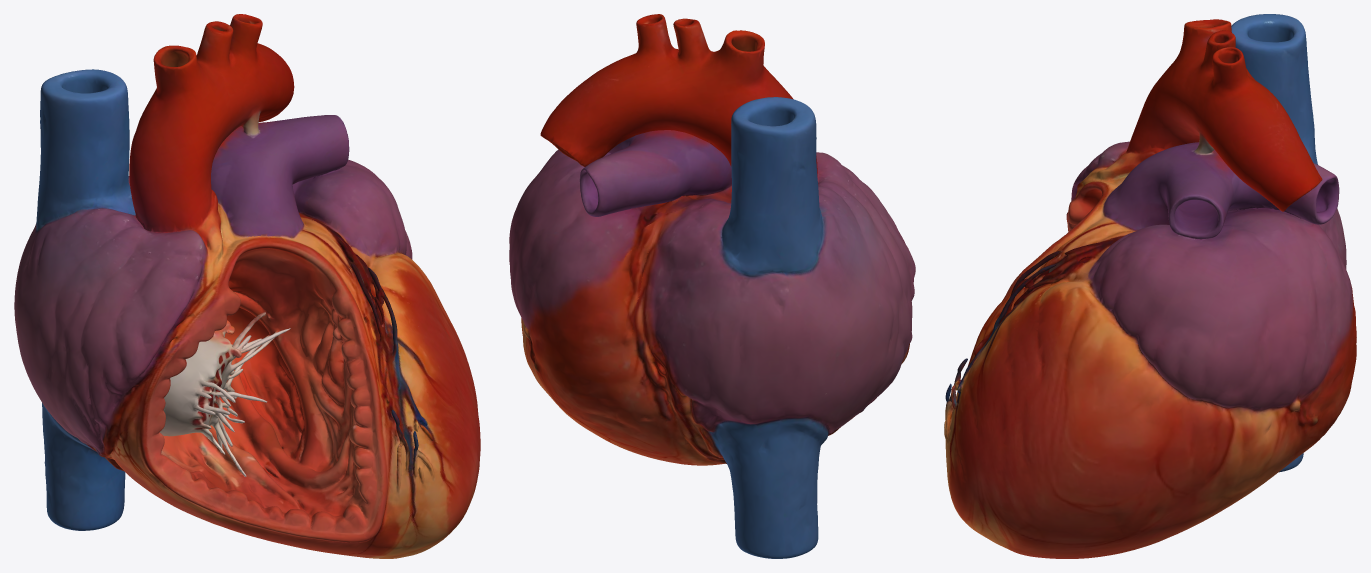
The model's file is heart-v2.glb.
The picture shows the model from 3 angles, left to right: view 1: azimuth 30°, elevation 25°; view 2: azimuth 150°, elevation 25°; view 3: azimuth 270°, elevation 25°; orthographic projection.
Visible parts, largest first — view 1: tripo_node_8304d019-624b-48c9-bcb0-389e05ef262e; view 2: tripo_node_8304d019-624b-48c9-bcb0-389e05ef262e; view 3: tripo_node_8304d019-624b-48c9-bcb0-389e05ef262e.
Part boxes in pixels (x1,y1,x2,y2): tripo_node_8304d019-624b-48c9-bcb0-389e05ef262e: [14, 14, 480, 558]; tripo_node_8304d019-624b-48c9-bcb0-389e05ef262e: [509, 14, 915, 558]; tripo_node_8304d019-624b-48c9-bcb0-389e05ef262e: [944, 14, 1356, 558].
Size of the model in its own units: 0.8015 by 0.9999 by 0.7831.
Materials: 1 (1 with a texture image).
